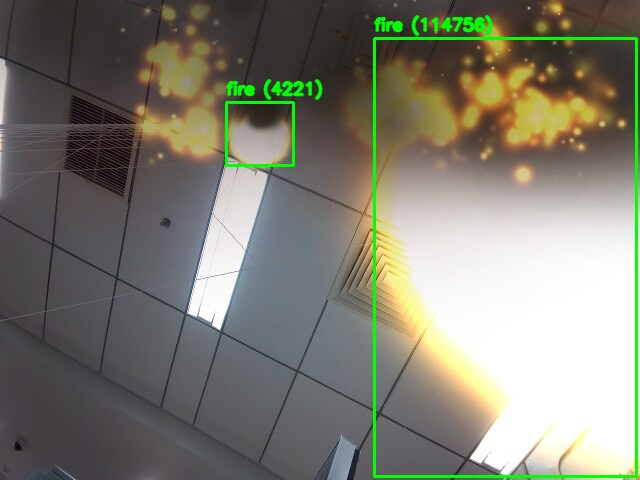fire: (374, 38, 636, 476), (226, 102, 293, 165)
